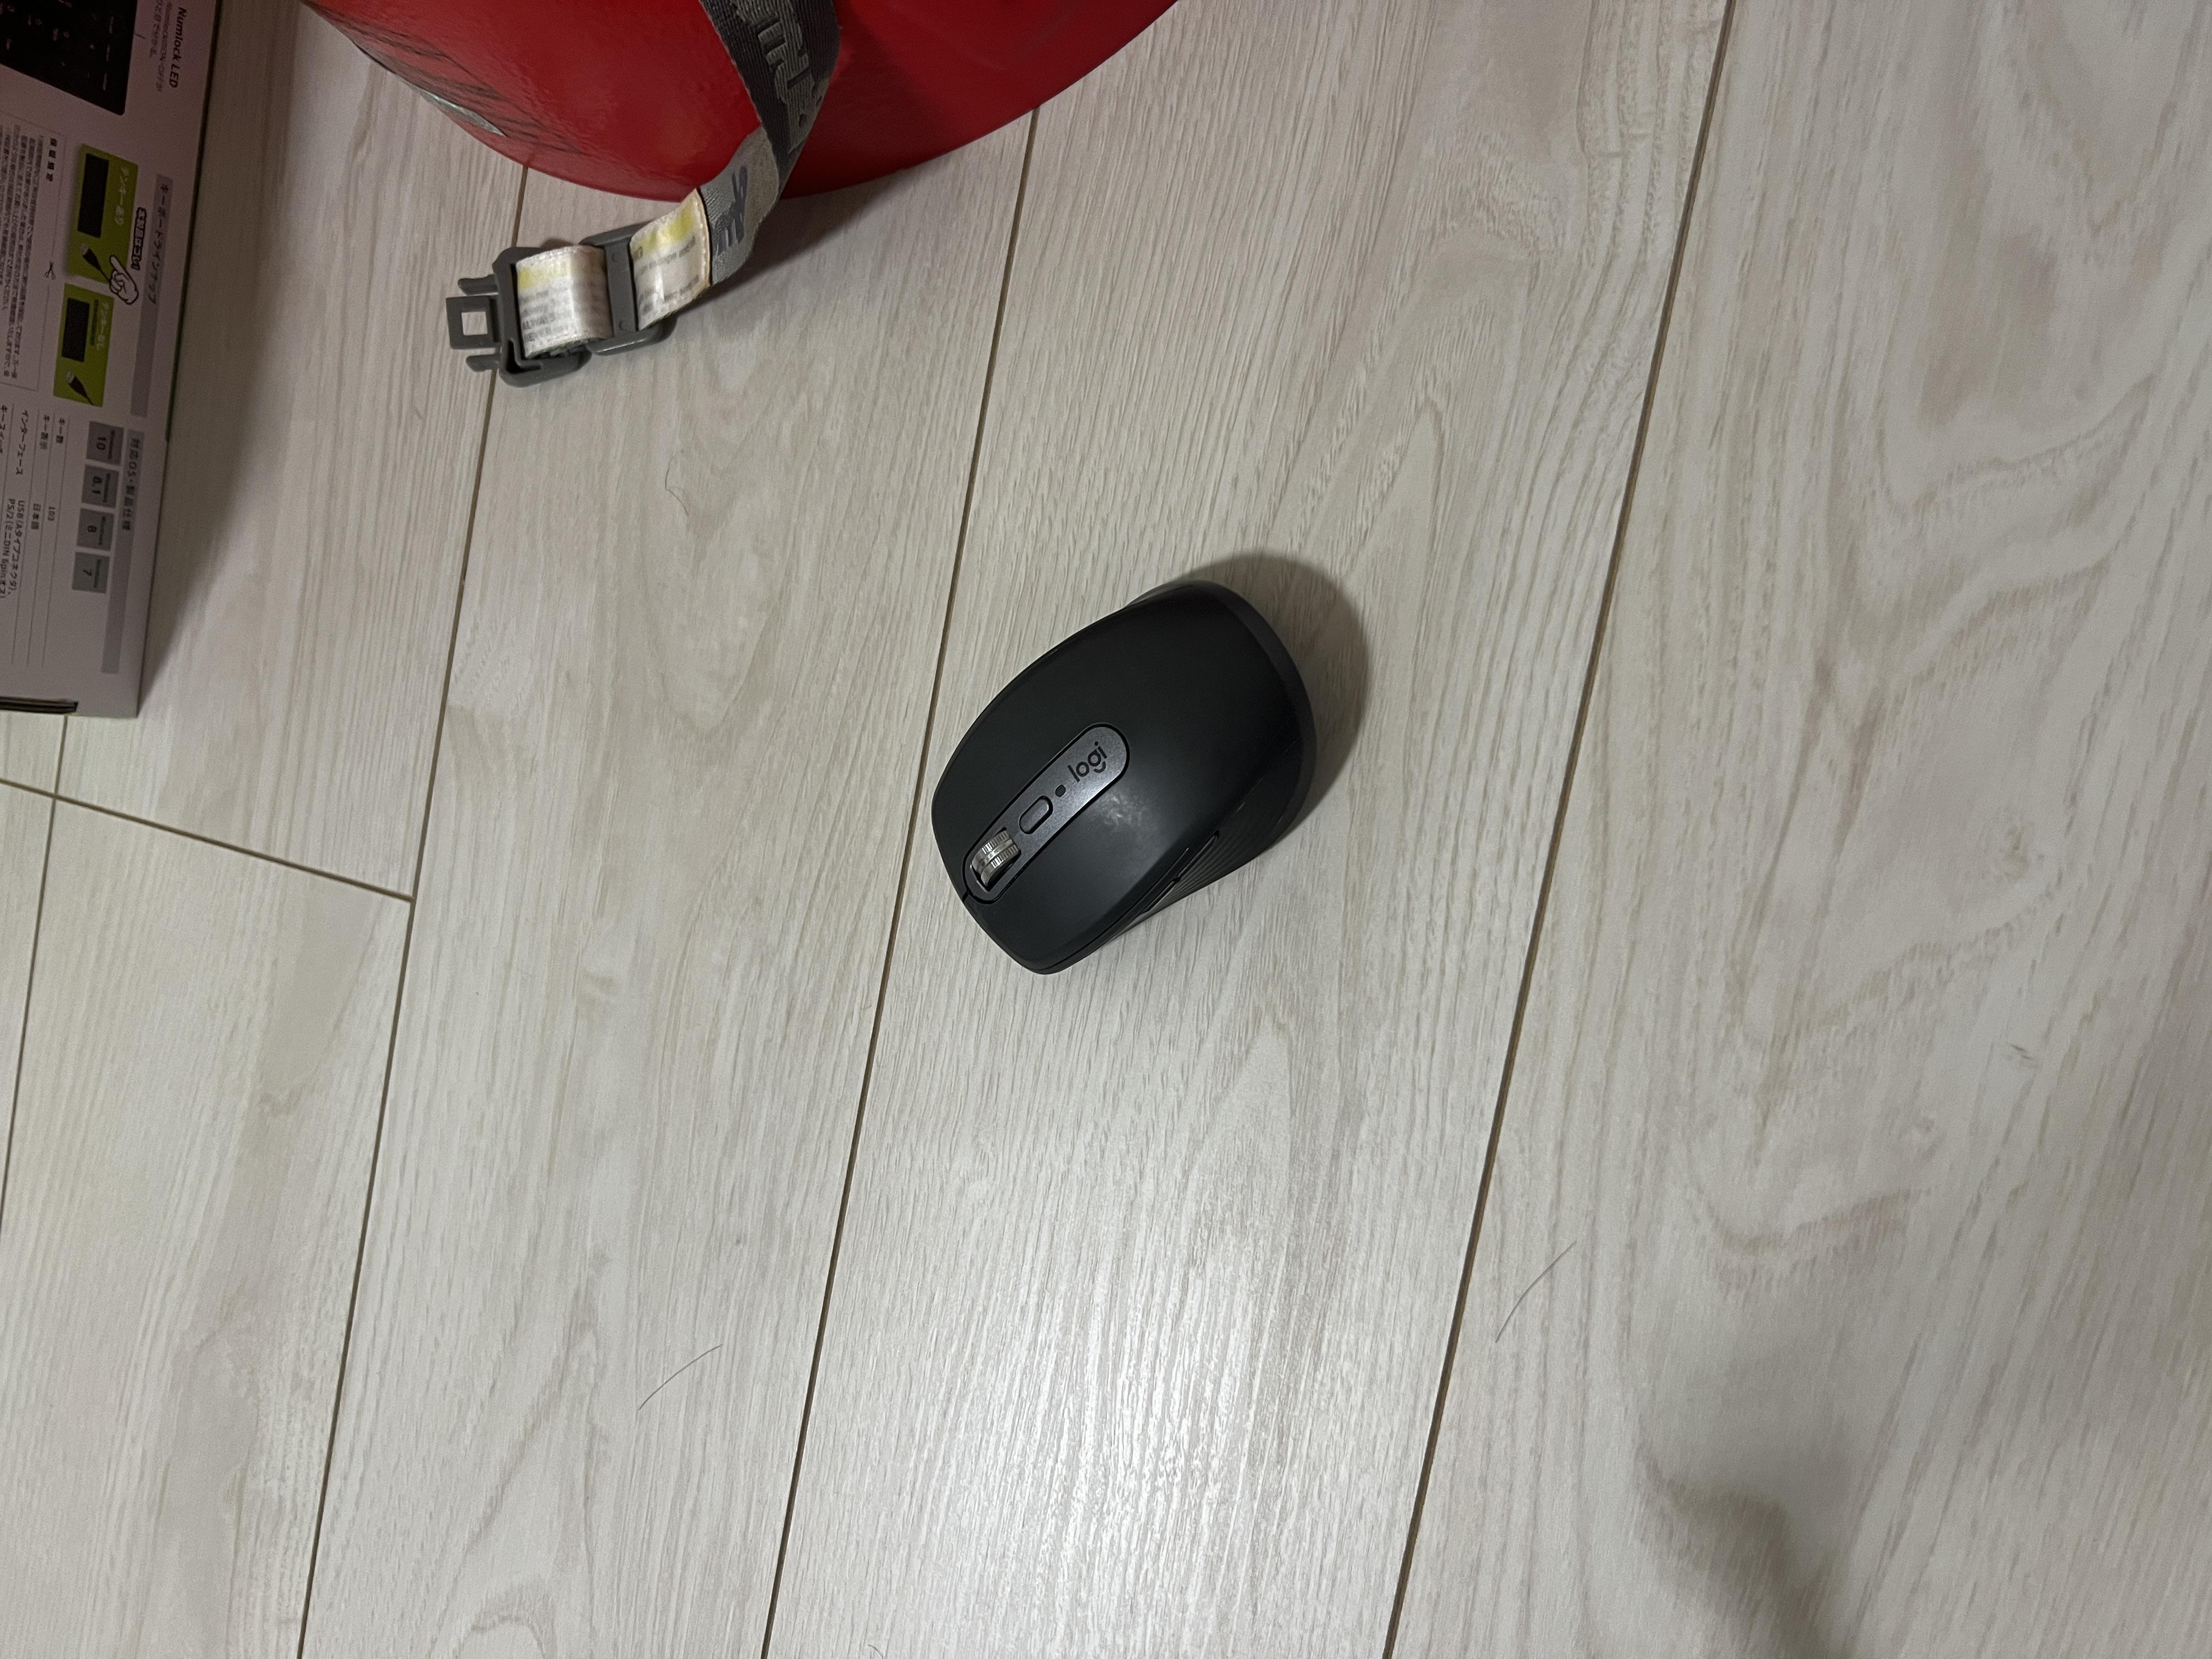mouse: (907, 699, 1472, 995)
